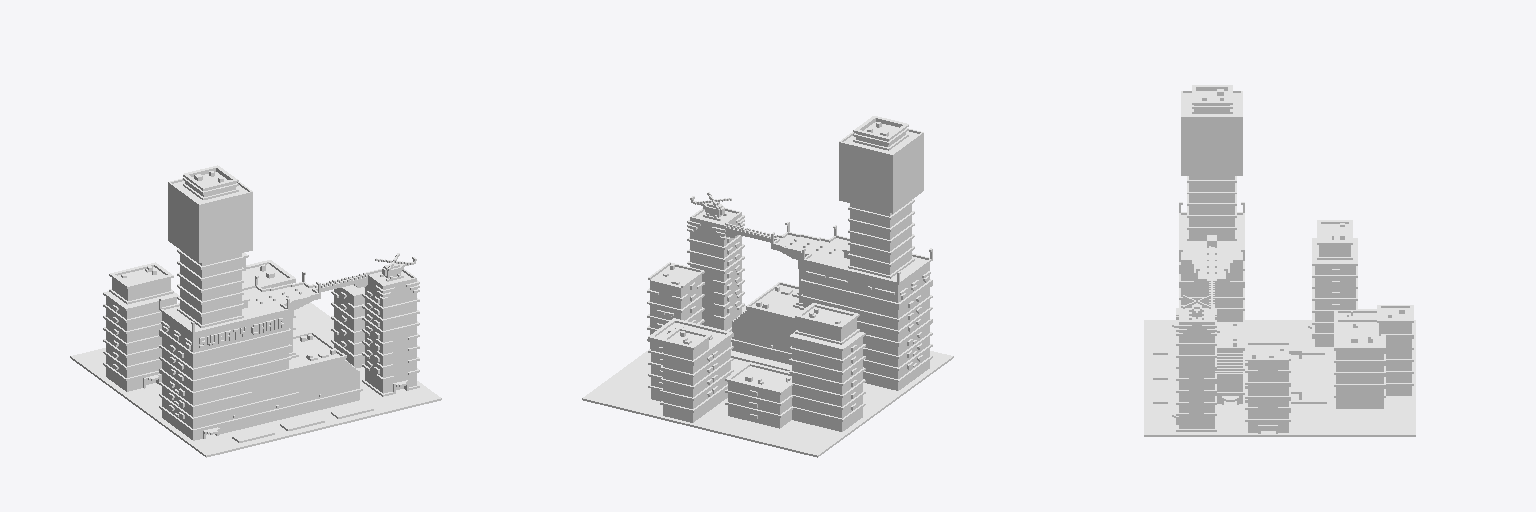
Rendered from SweatyChair.obj.
The picture shows the model from 3 angles: view 1: azimuth 30°, elevation 25°; view 2: azimuth 150°, elevation 25°; view 3: azimuth 270°, elevation 25°; orthographic projection.
Bounding box in the file's own units: 126 × 126 × 126.